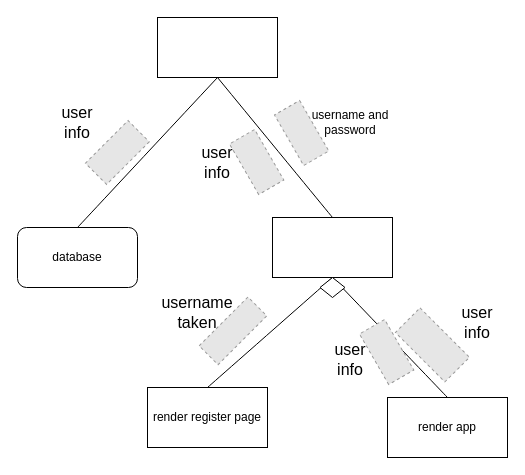
This 525x475 diagram has some shape labels left out. Grey dashed boxes stand in for pictures. The centre of each missing label's shape, as x and y in pixels:
"registeruser" goes at point 217,47.
"UniqueUser" goes at point 332,247.
